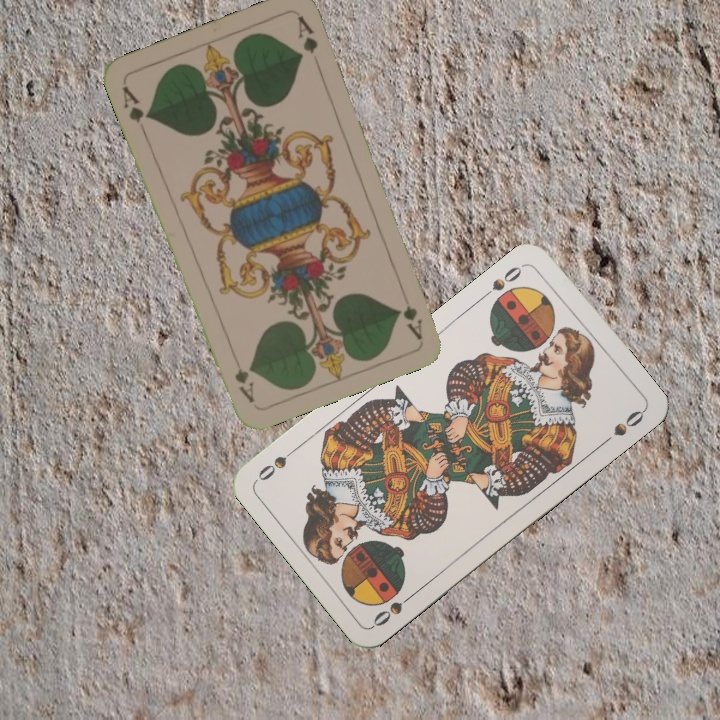GA: (118, 81, 153, 137), (399, 301, 425, 342)
SO: (369, 587, 419, 630), (487, 259, 529, 294)
